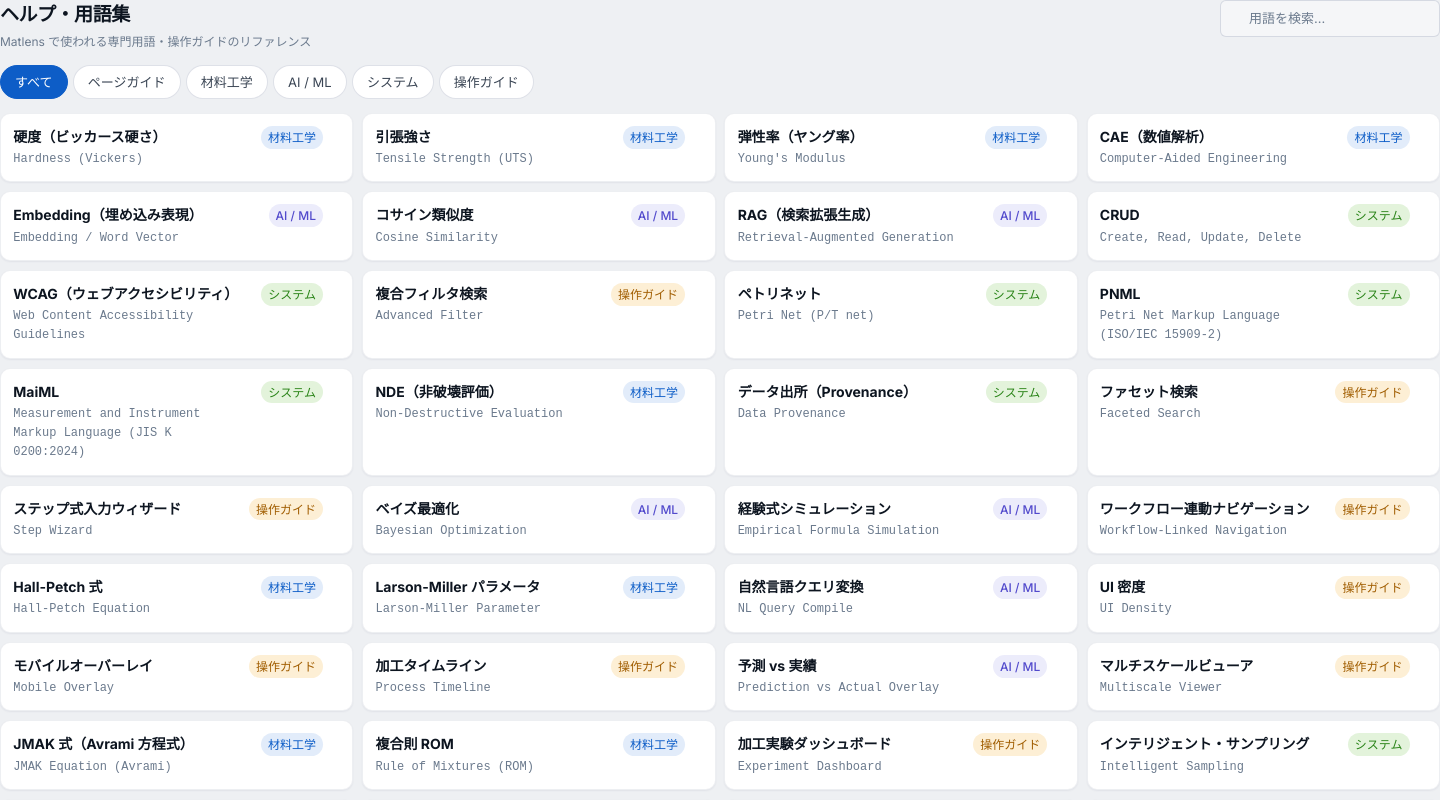
HelpPage › filter by category shows relevant terms
This screenshot has width=1440, height=800.
What coordinates should you click on to do the following:
click the tab "AI / ML"
I would click on:
 (310, 82)
Its box is [273, 65, 347, 99].
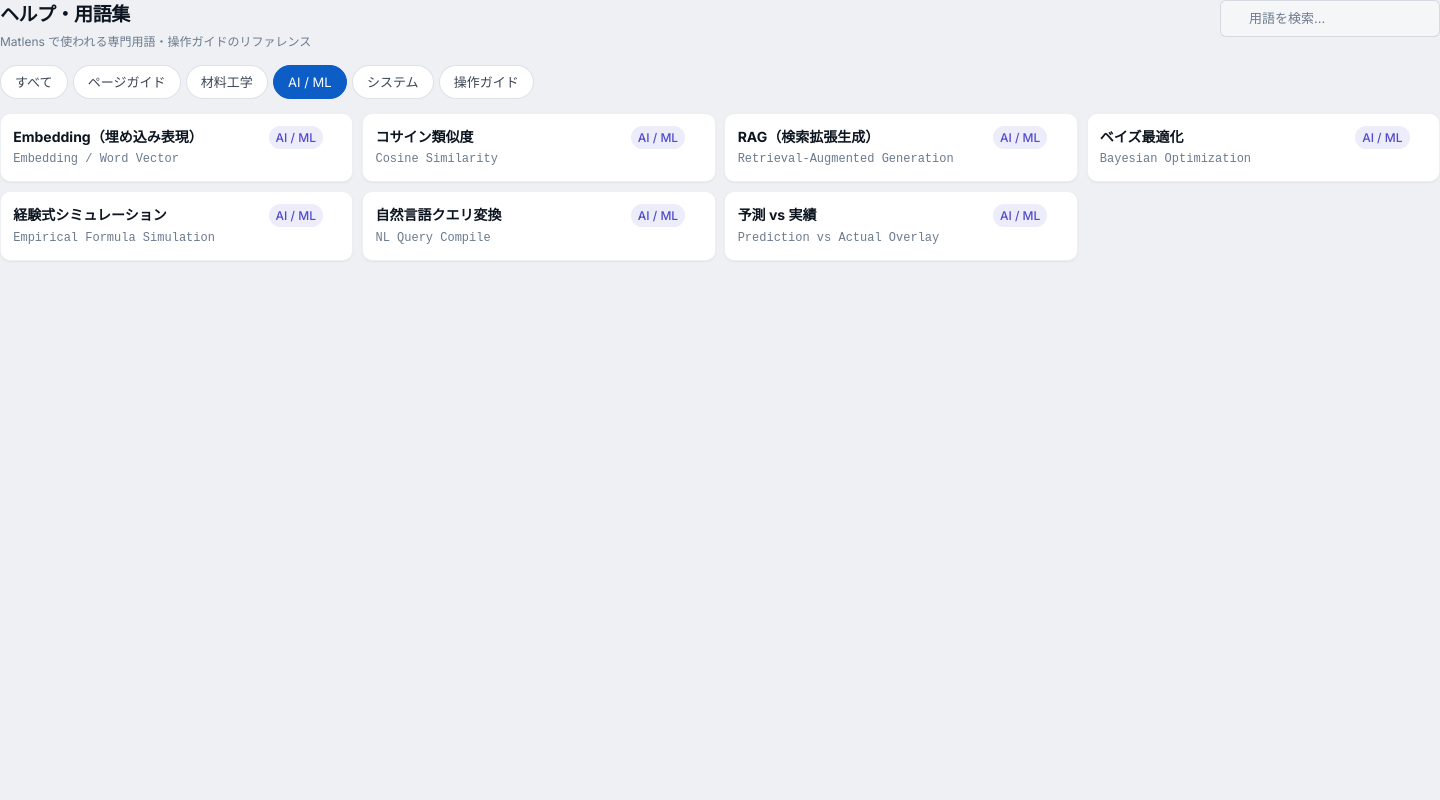
Expected: the text "Embedding（埋め込み表現）" is shown, [13, 126, 203, 148]
Now the button "硬度（ビッカース硬さ）" is gone
